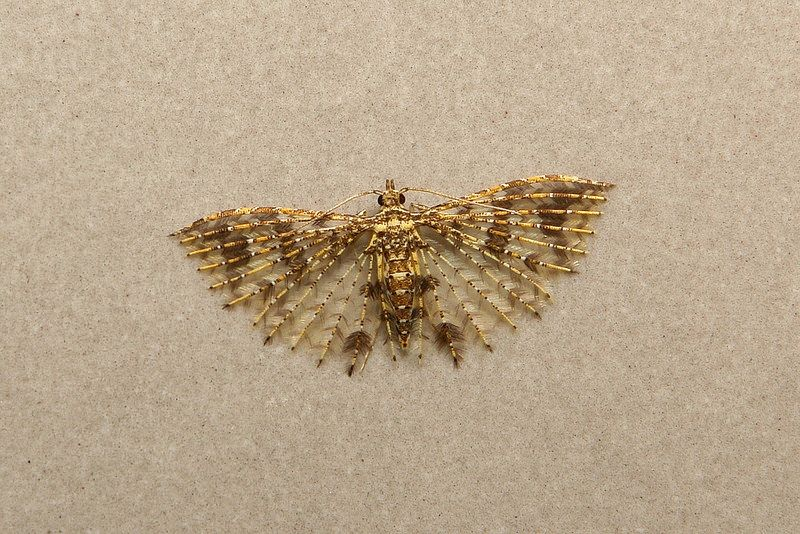Alucitidae: (167, 154, 622, 378)
moth: (165, 152, 620, 376)
